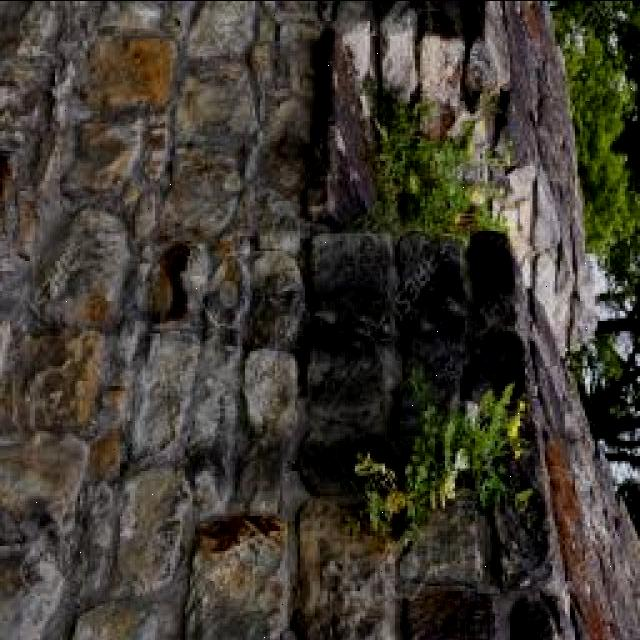crack: (1, 1, 637, 638), (215, 0, 297, 531)
vegetation: (343, 365, 537, 543), (355, 77, 515, 244)
